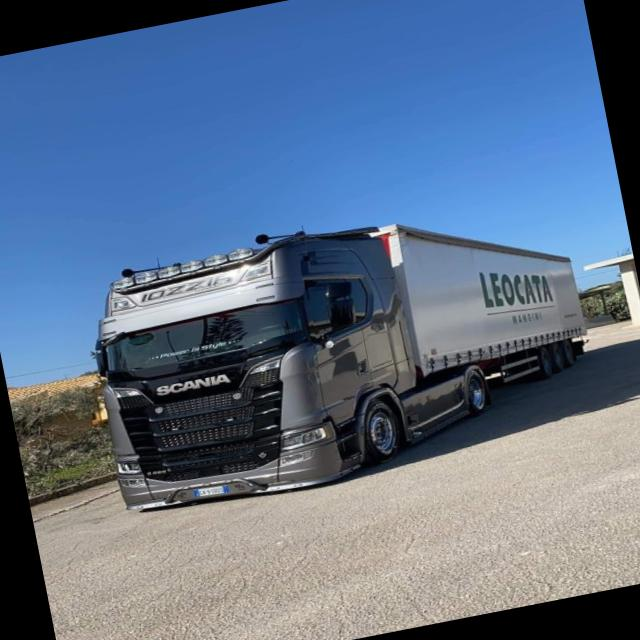asphalt: (33, 325, 640, 640)
cement: (29, 473, 118, 522)
